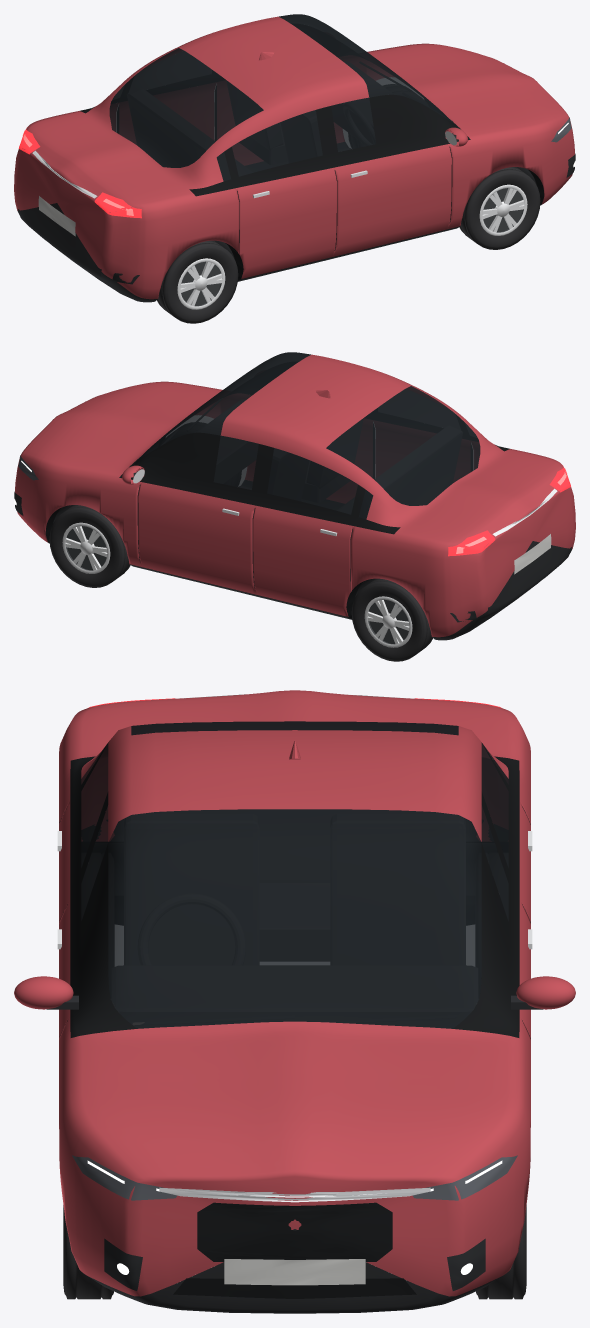
File: honda-amaze-model-low.glb
3 renders of one model, top to bottom at view 1: azimuth 30°, elevation 25°; view 2: azimuth 150°, elevation 25°; view 3: azimuth 270°, elevation 25°, orthographic. The views are drawn at different scales.
Parts seen in each view (by area): view 1: Body, Wheel.004, Wheel.002, SeatBack.002, SeatBack.001, SeatBack, Dashboard, RearBumper, TailLamp, SeatBase, PlateRear, SteeringWheel; view 2: Body, Wheel.003, Wheel.001, SeatBack.002, Dashboard, SeatBack, SeatBack.001, TailLamp, RearBumper, SeatBase.001, PlateRear; view 3: Body, SeatBack, Dashboard, SeatBack.001, Grille, SeatBack.002, SeatBase.002, PlateFront, Intake, Headlamp, FogPod, GrilleChrome0 (+8 smaller).
Part boxes in pixels (left/top/right/bottom): Body: left=14, top=14, right=574, bottom=302; Wheel.004: left=157, top=240, right=238, bottom=323; Wheel.002: left=459, top=167, right=540, bottom=249; SeatBack.002: left=127, top=88, right=230, bottom=180; SeatBack.001: left=281, top=110, right=321, bottom=162; SeatBack: left=227, top=81, right=282, bottom=149; Dashboard: left=332, top=62, right=391, bottom=143; RearBumper: left=18, top=209, right=139, bottom=284; TailLamp: left=18, top=127, right=141, bottom=218; SeatBase: left=239, top=124, right=287, bottom=164; PlateRear: left=38, top=196, right=75, bottom=236; SteeringWheel: left=343, top=103, right=375, bottom=146; Body: left=15, top=352, right=575, bottom=640; Wheel.003: left=351, top=578, right=432, bottom=661; Wheel.001: left=49, top=505, right=130, bottom=587; SeatBack.002: left=359, top=426, right=462, bottom=518; Dashboard: left=198, top=400, right=257, bottom=483; SeatBack: left=268, top=448, right=308, bottom=500; SeatBack.001: left=307, top=419, right=362, bottom=487; TailLamp: left=448, top=465, right=570, bottom=556; RearBumper: left=450, top=547, right=571, bottom=622; SeatBase.001: left=302, top=462, right=350, bottom=502; PlateRear: left=514, top=534, right=551, bottom=574; Body: left=59, top=690, right=530, bottom=1313; SeatBack: left=331, top=814, right=465, bottom=964; Dashboard: left=112, top=966, right=477, bottom=1028; SeatBack.001: left=124, top=814, right=258, bottom=964; Grille: left=197, top=1202, right=392, bottom=1261; SeatBack.002: left=146, top=810, right=443, bottom=882; SeatBase.002: left=260, top=883, right=329, bottom=960; PlateFront: left=224, top=1259, right=365, bottom=1285; Intake: left=173, top=1278, right=416, bottom=1298; Headlamp: left=72, top=1155, right=517, bottom=1200; FogPod: left=104, top=1238, right=485, bottom=1290; GrilleChrome0: left=159, top=1187, right=430, bottom=1202.
Bounding box in the file's own units: 3.93 × 1.55 × 2.07.
